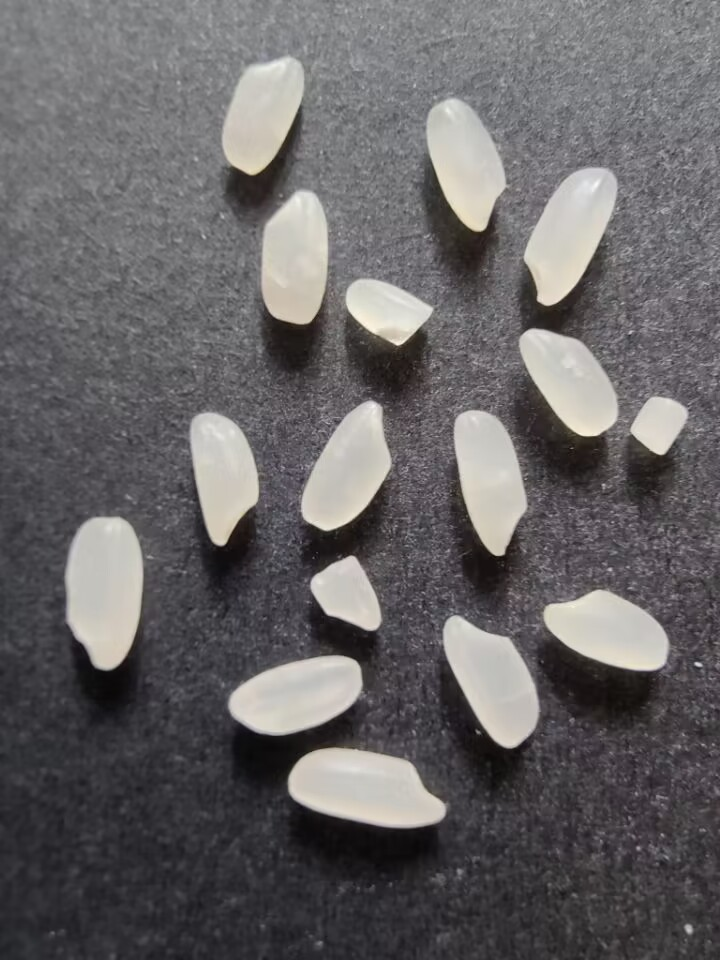broken: (340, 275, 438, 350), (304, 554, 387, 637), (626, 395, 690, 459)
rice: (518, 163, 621, 310), (283, 744, 451, 834), (439, 611, 543, 752), (60, 510, 146, 675), (298, 394, 394, 532), (222, 652, 366, 740), (449, 405, 530, 560), (422, 96, 508, 240), (513, 325, 622, 438), (536, 588, 670, 673), (186, 410, 263, 553), (256, 187, 334, 328), (220, 54, 307, 178)
